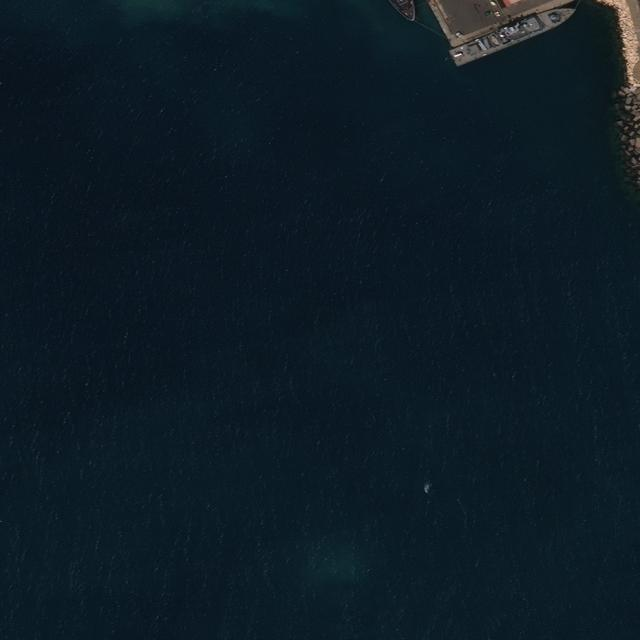Other Warship: (450, 1, 578, 68), (390, 1, 414, 21)
